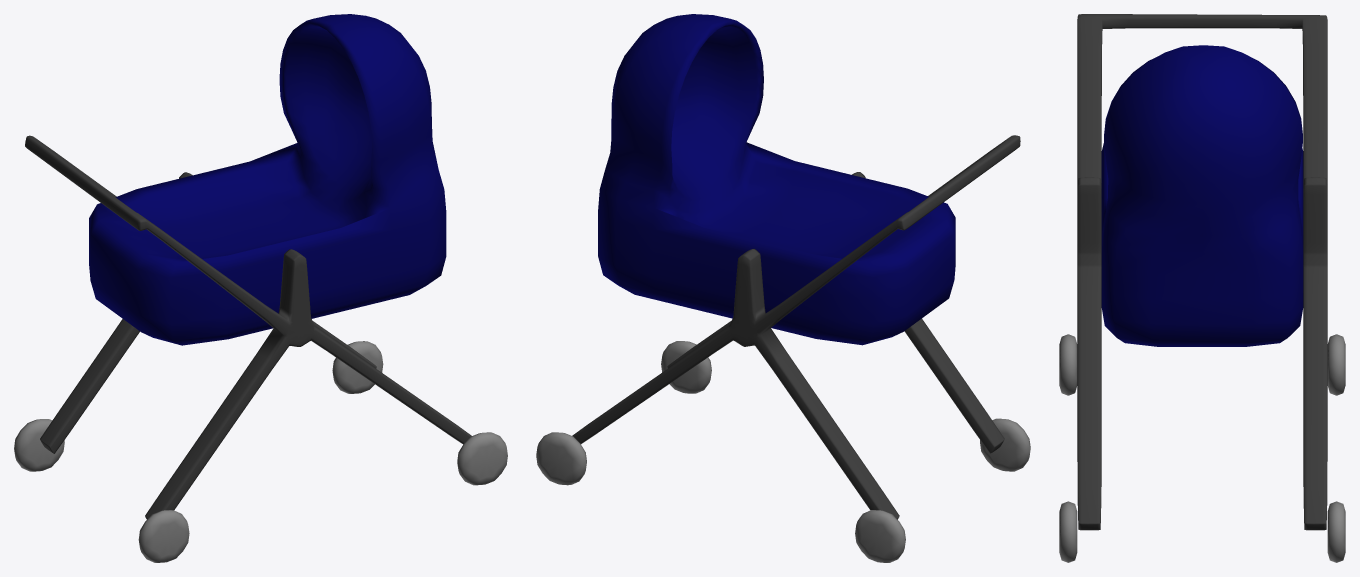
File: Proto_Stroller_01.fbx
3 views of the same model, side by side, from view 1: azimuth 30°, elevation 25°; view 2: azimuth 150°, elevation 25°; view 3: azimuth 270°, elevation 25° (orthographic). The views are drawn at different scales.
Parts seen in each view (by area): view 1: Proto_Stroller_01; view 2: Proto_Stroller_01; view 3: Proto_Stroller_01.
Part boxes in pixels (x1,y1,x2,y2): Proto_Stroller_01: (14, 14, 507, 562); Proto_Stroller_01: (536, 14, 1030, 562); Proto_Stroller_01: (1059, 14, 1345, 562).
Size of the model in its own units: 2.79 by 3.15 by 1.74.
